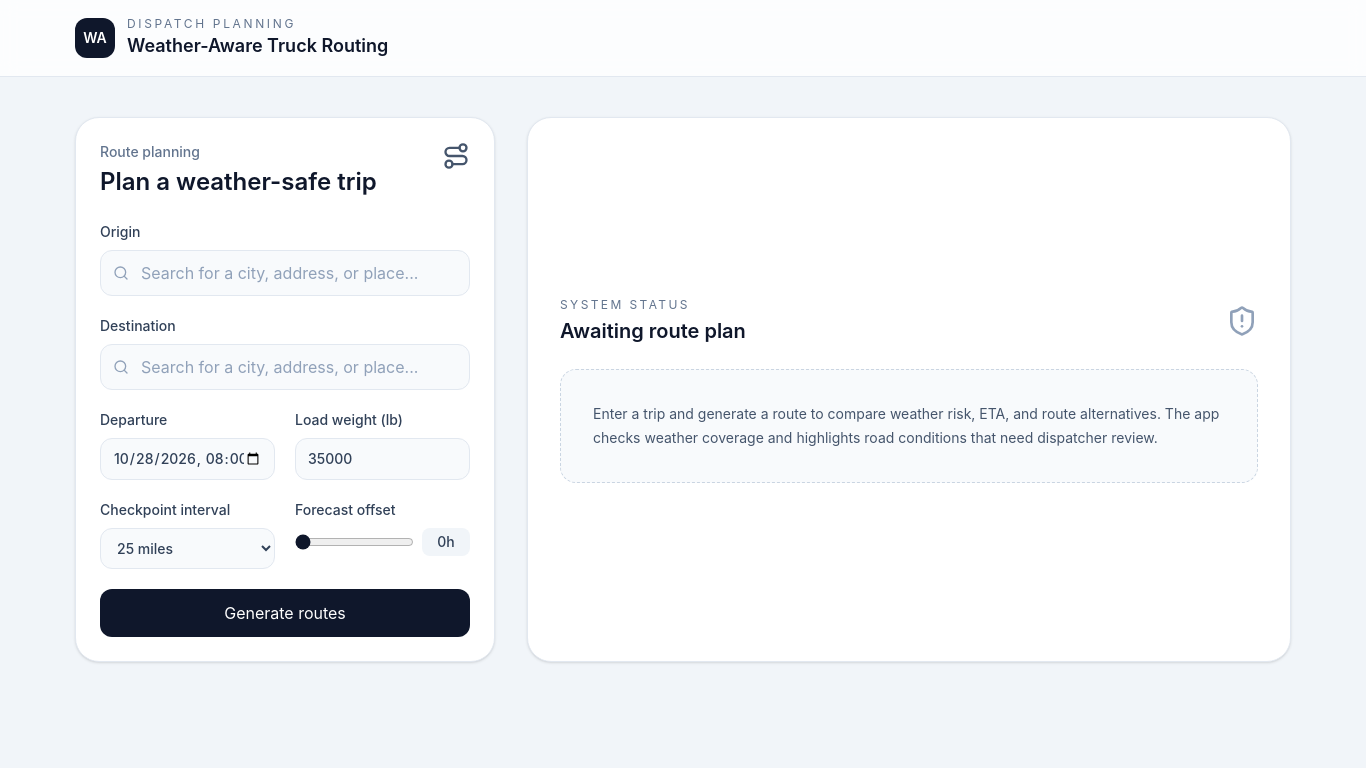
Scenario: App › prevents submitting identical selected origin and destination locations
Type "Dallas" into the dropdown labelled "Origin" at (285, 273), box x1=101 y1=251 x2=469 y2=295
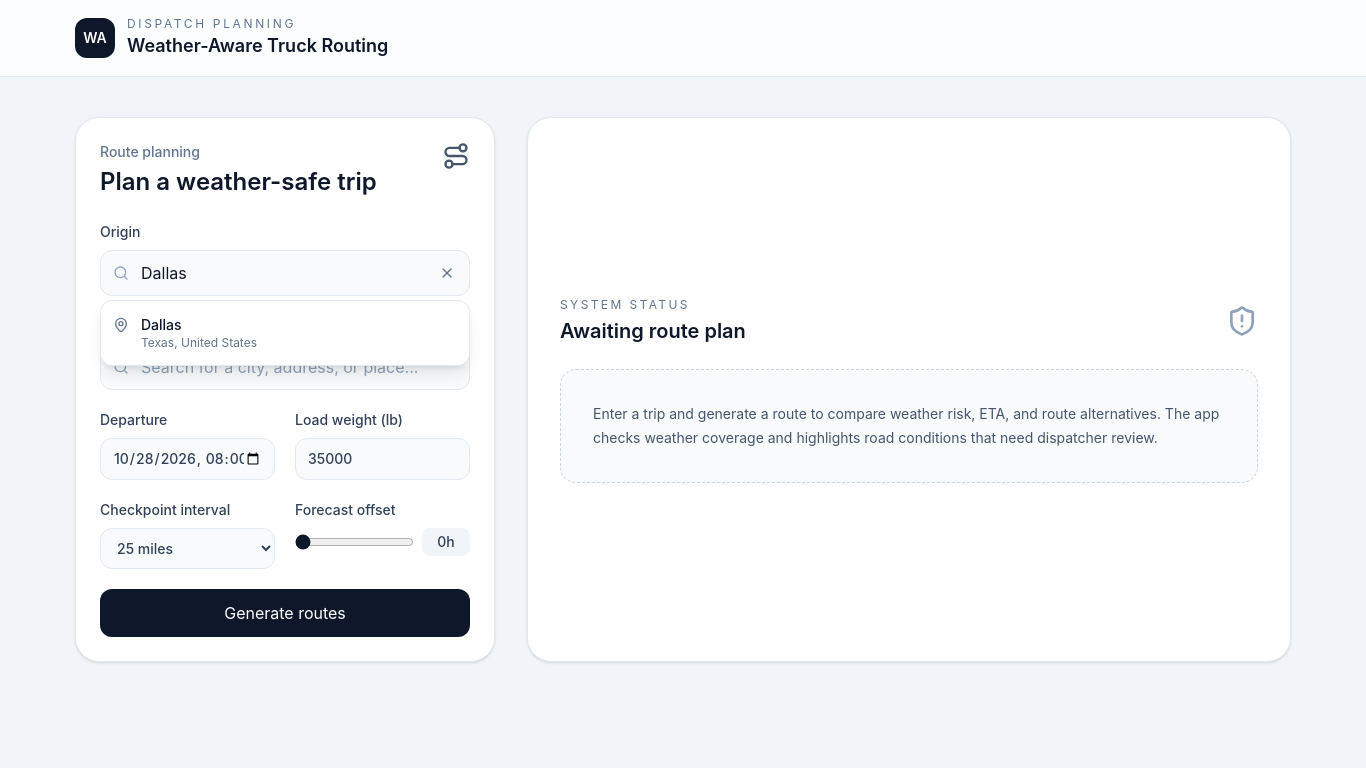
Click the option "Dallas Texas, United States" at (185, 333), box x1=113 y1=316 x2=257 y2=350
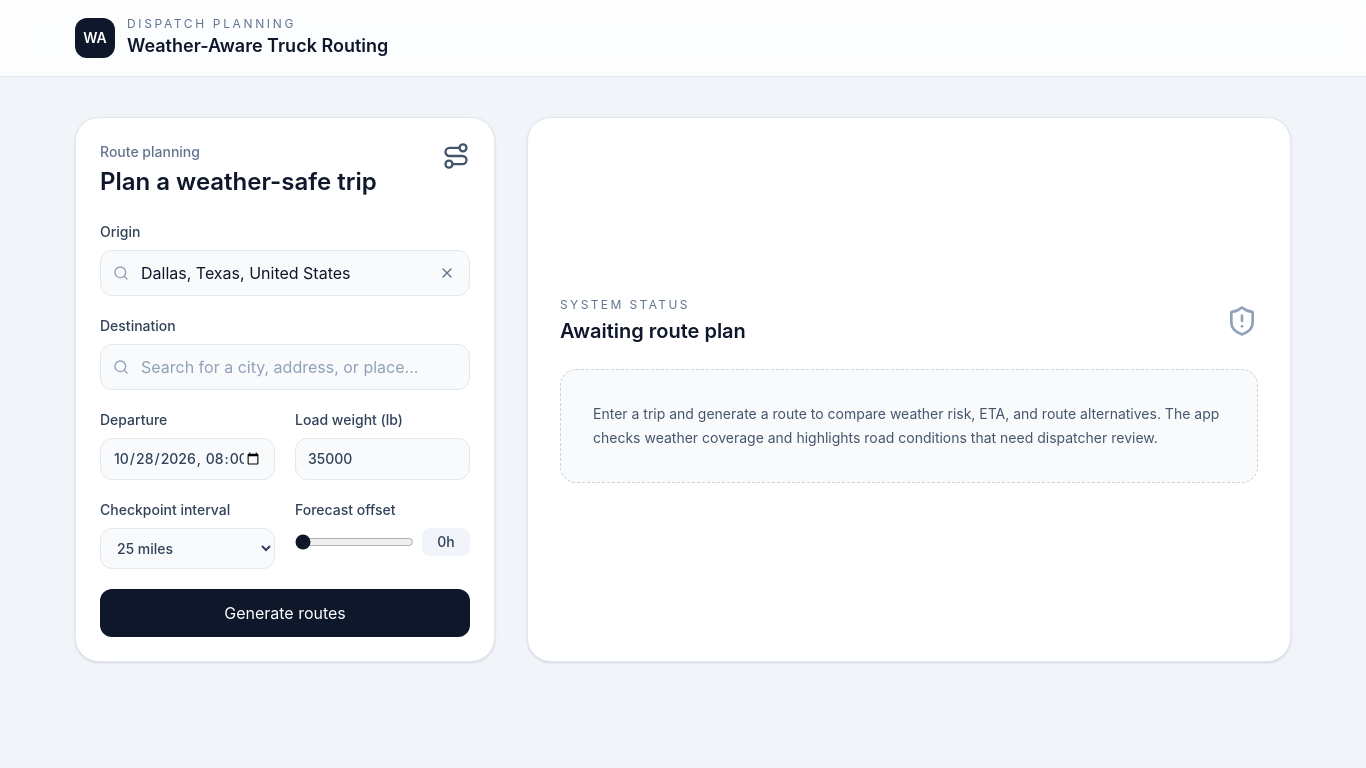
Type "Dallas" into the dropdown labelled "Destination" at (285, 367), box x1=101 y1=345 x2=469 y2=389
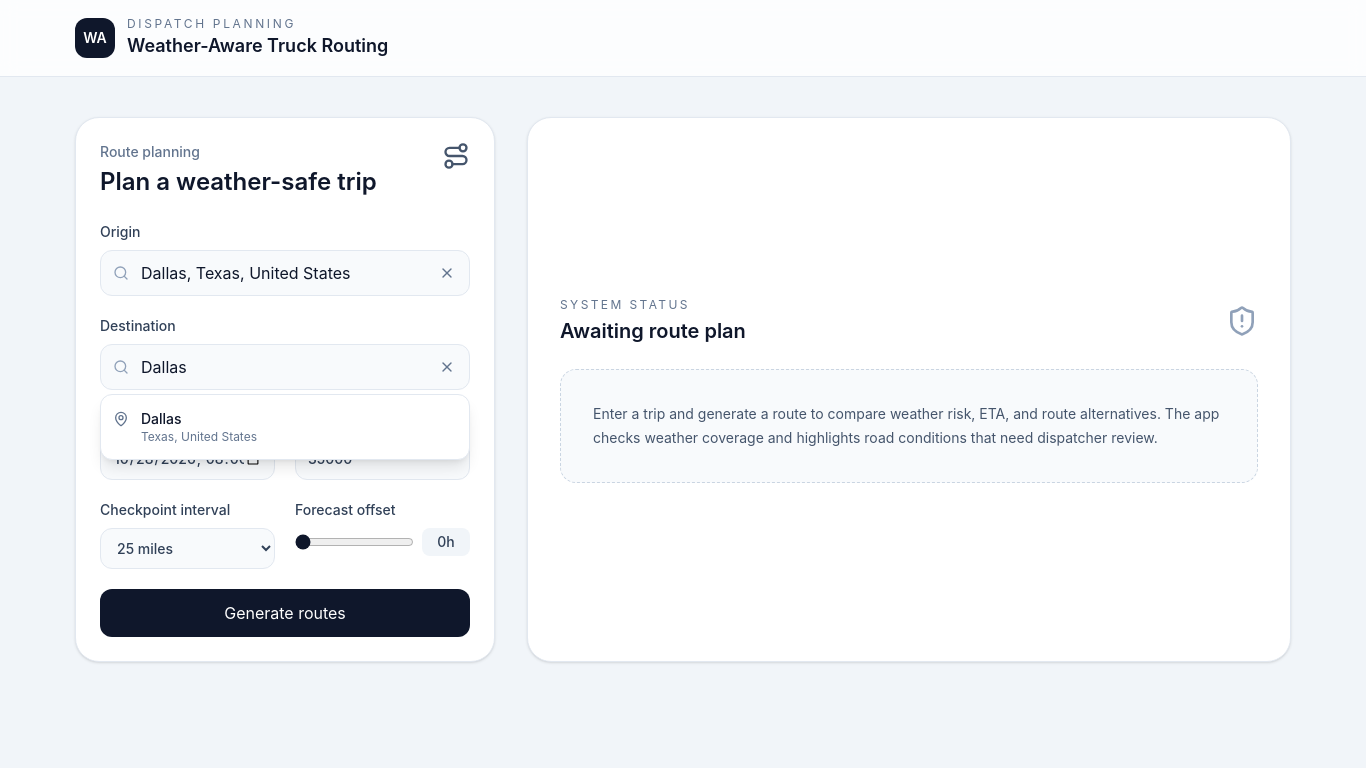
Click the option "Dallas Texas, United States" at (185, 427), box x1=113 y1=410 x2=257 y2=444
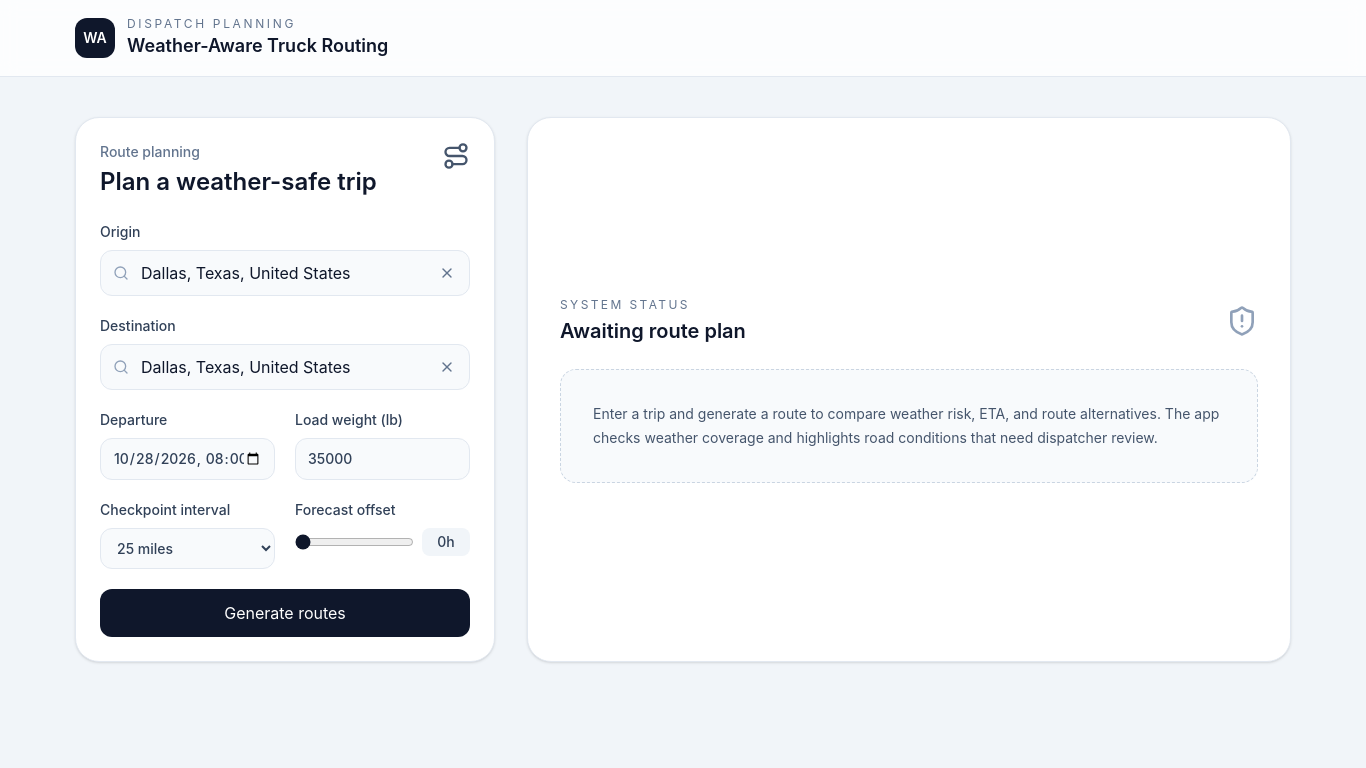
Click the button "Generate routes" at (285, 613), box x1=100 y1=589 x2=470 y2=637
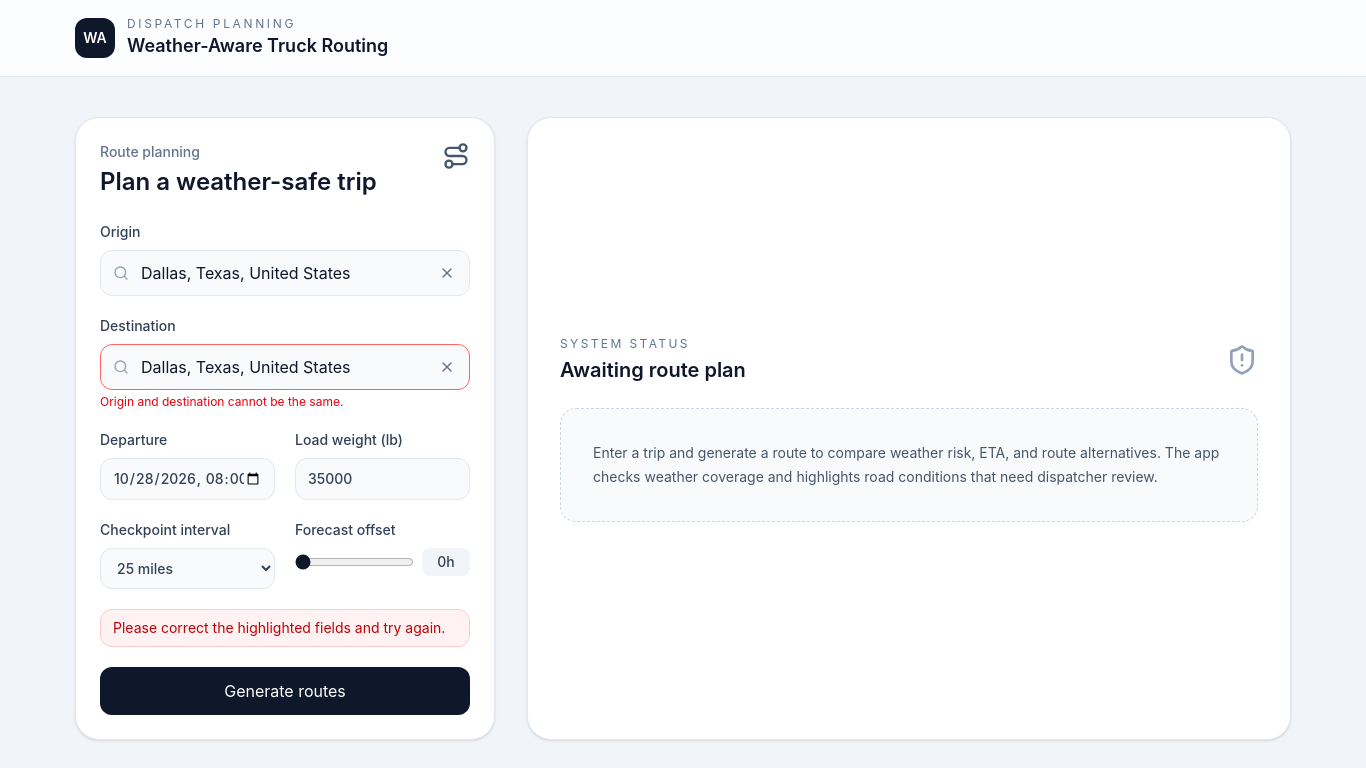
Check: the text "Origin and destination cannot be the same." is shown, box x1=100 y1=394 x2=343 y2=409
